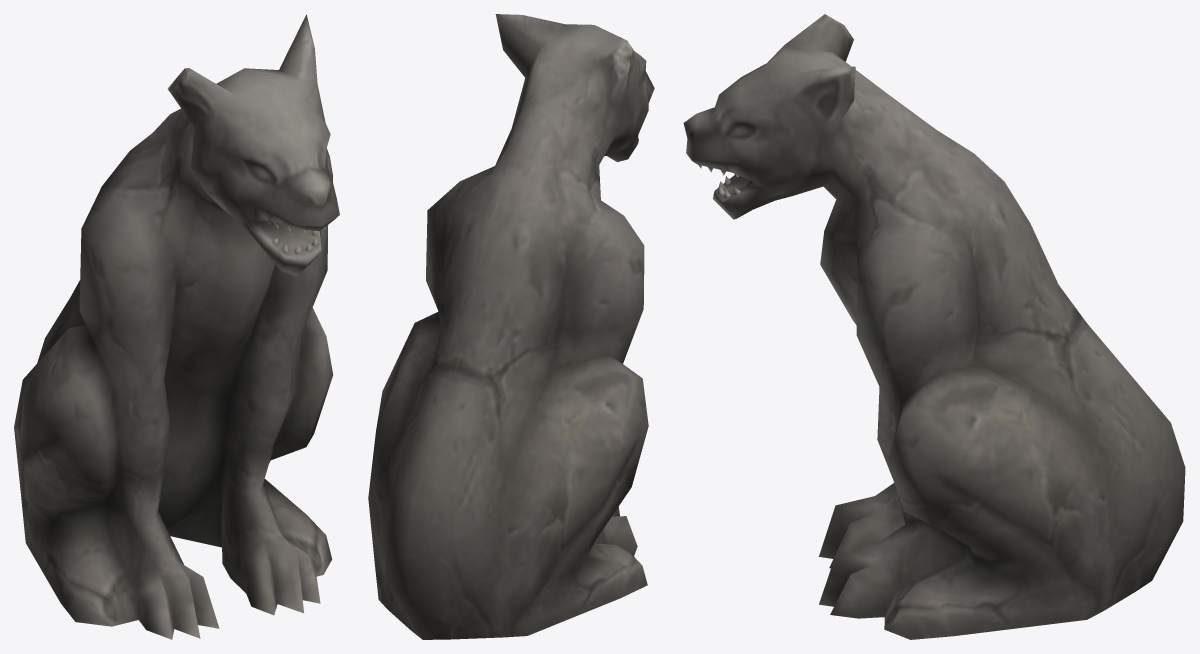
Rendered from dcfx_diaoxg_01.FBX.
3 renders of one model, left to right at view 1: azimuth 30°, elevation 25°; view 2: azimuth 150°, elevation 25°; view 3: azimuth 270°, elevation 25°, orthographic. The views are drawn at different scales.
Parts seen in each view (by area): view 1: dcfx_diaoxg_01; view 2: dcfx_diaoxg_01; view 3: dcfx_diaoxg_01.
Part boxes in pixels (x1,y1,x2,y2): dcfx_diaoxg_01: (14,14,339,639); dcfx_diaoxg_01: (368,14,654,639); dcfx_diaoxg_01: (683,14,1185,639).
Size of the model in its own units: 282 by 578 by 480.
